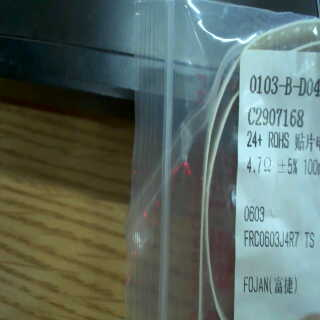4.7R: (241, 153, 274, 184)
